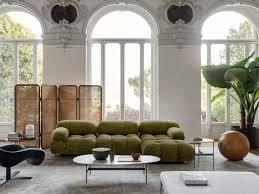chair: (0, 144, 44, 182)
light: (153, 0, 204, 53), (41, 0, 88, 53)
sofa: (53, 116, 192, 163)
table: (156, 168, 259, 194), (77, 152, 158, 185), (190, 137, 221, 165)
